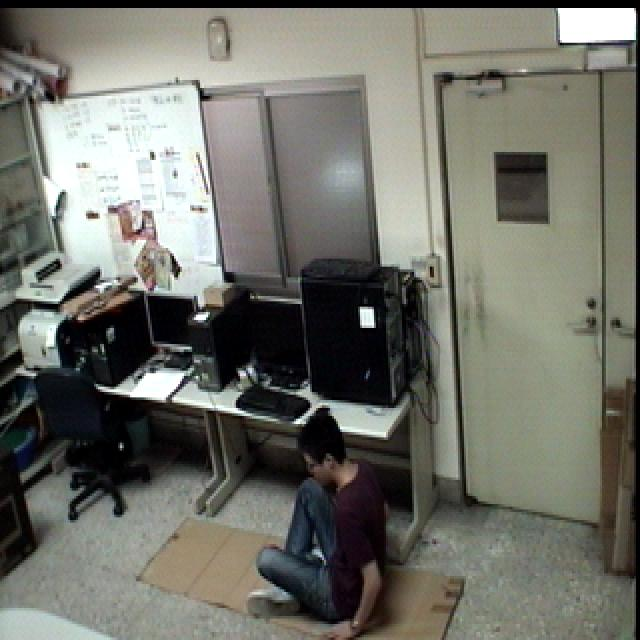sit: (239, 406, 393, 640)
